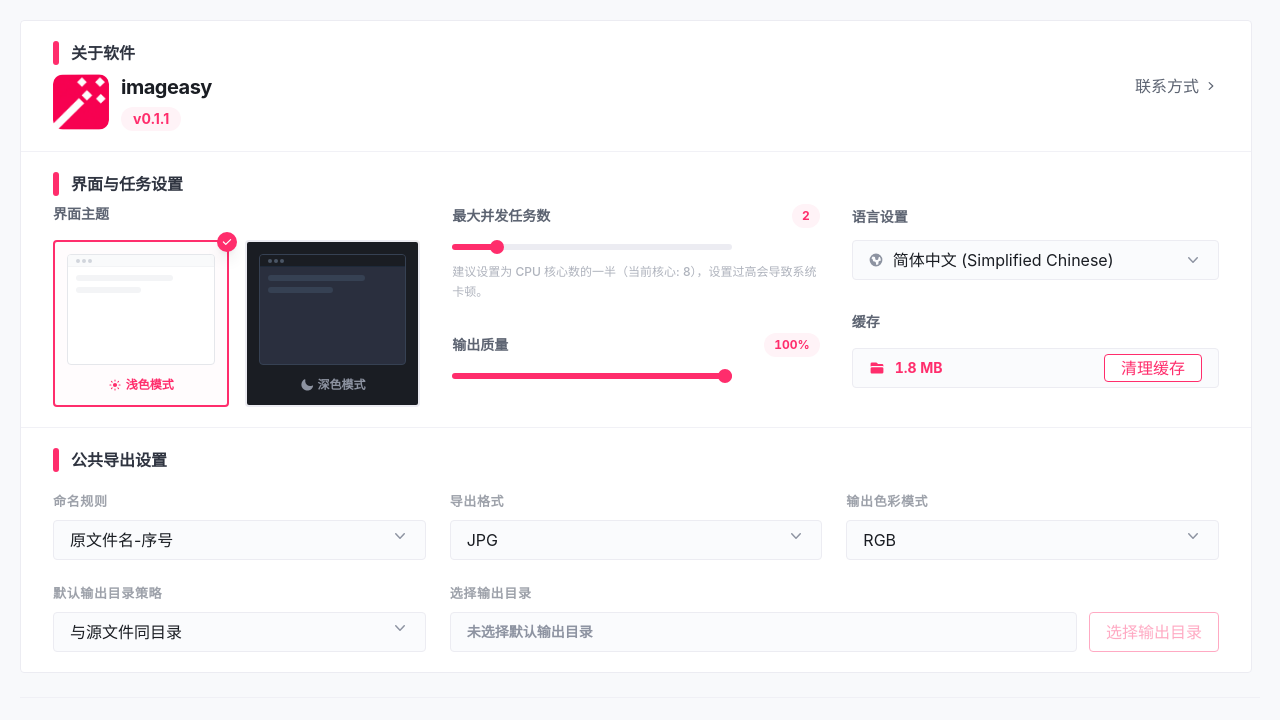
Scenario: SettingsPage › opens a contact dialog from the about card
Click the button "联系方式". click: point(1177, 86)
box: [1135,74,1219,98]
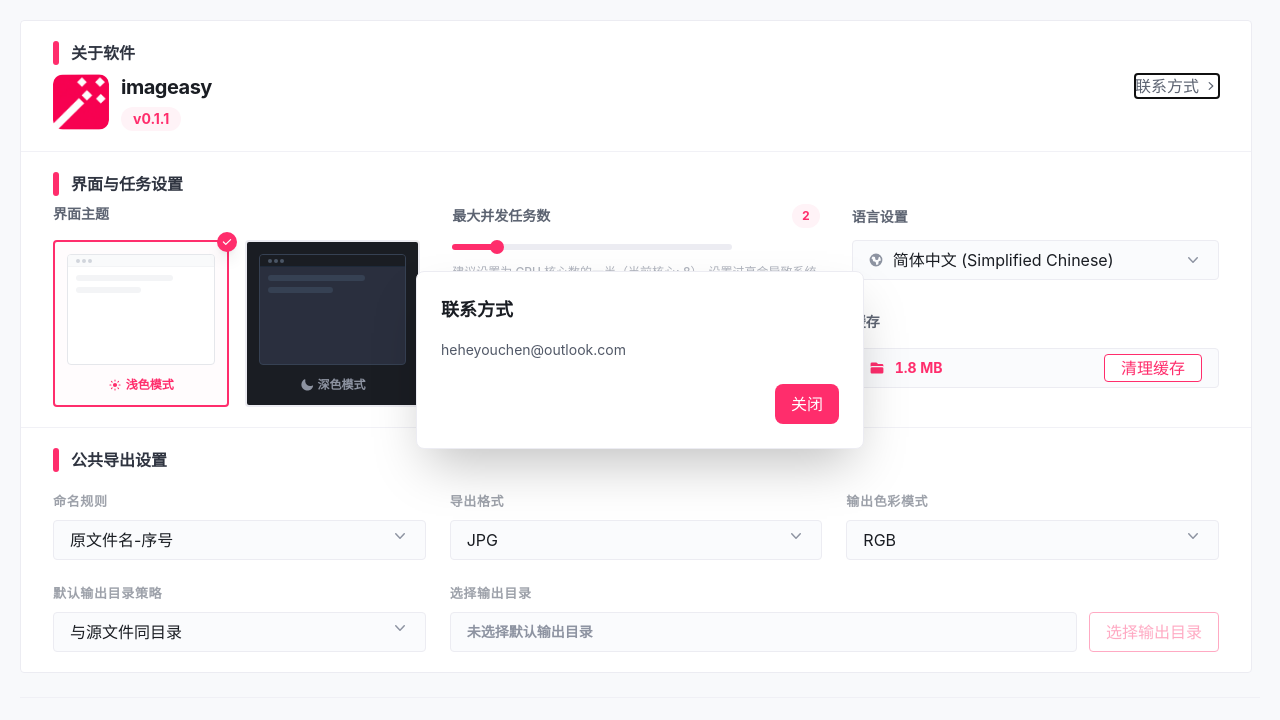
Now the text "heheyouchen@outlook.com" is shown, box [441,341,626,358]
Now the button "关闭" is shown, box [775,384,839,424]
